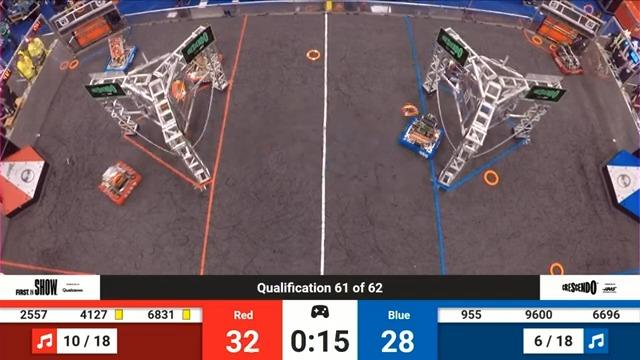robot: (97, 154, 143, 216), (401, 109, 448, 162), (186, 43, 227, 89), (98, 32, 140, 76), (554, 37, 596, 80), (436, 43, 476, 84)
